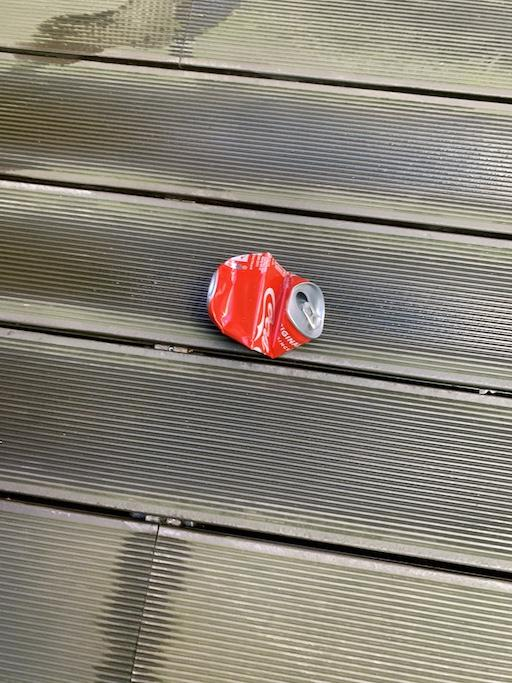Aluminum can: (186, 237, 331, 379)
